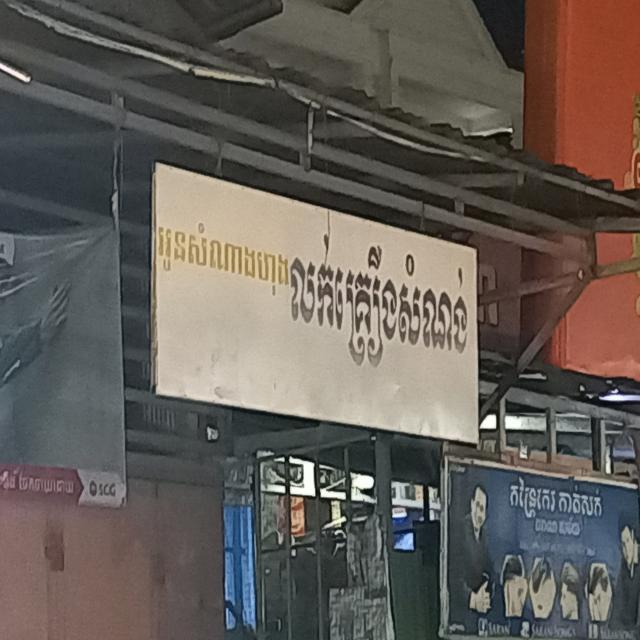1: (507, 472, 604, 528)
Yolov11_80vkh: (157, 191, 479, 400)
